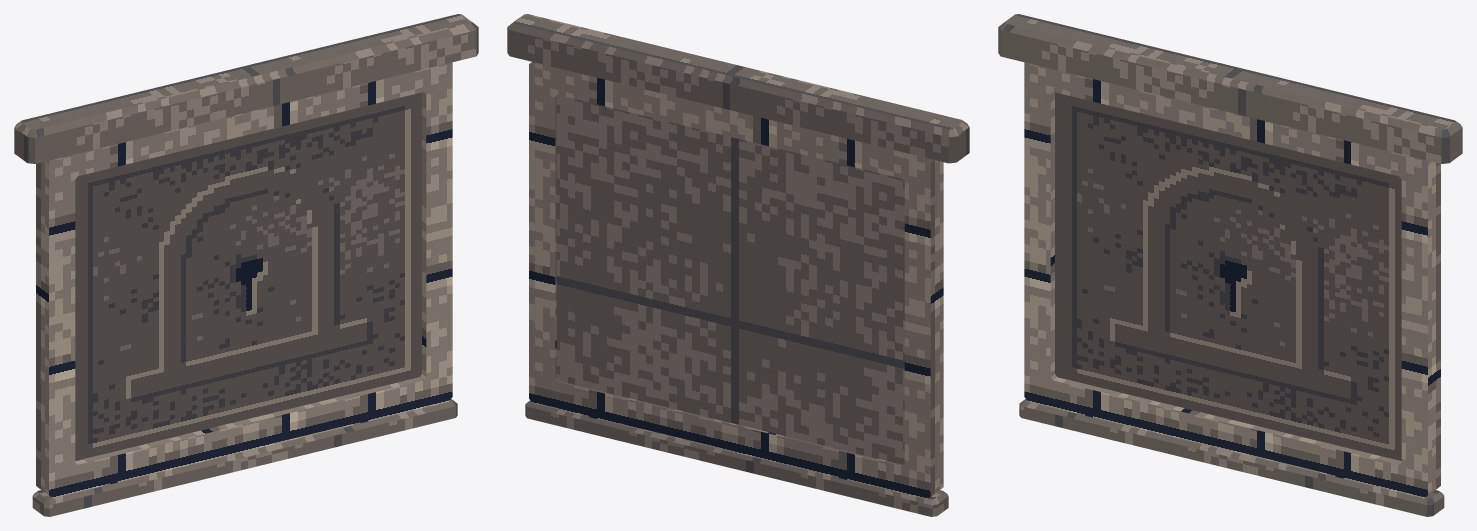
Rendered from tmpl.relief.glb.
The picture shows the model from 3 angles, left to right: view 1: azimuth 30°, elevation 25°; view 2: azimuth 150°, elevation 25°; view 3: azimuth 330°, elevation 25°; orthographic projection.
Parts seen in each view (by area): view 1: kit_relief, kit_frame; view 2: kit_relief, kit_frame; view 3: kit_relief, kit_frame.
Boxes of the visible parts, x1,y1,x2,y2 form: kit_relief: [75, 92, 421, 460]; kit_frame: [14, 14, 478, 516]; kit_relief: [556, 95, 904, 464]; kit_frame: [507, 14, 969, 516]; kit_relief: [1055, 92, 1401, 460]; kit_frame: [998, 14, 1462, 516].
Bounding box in the file's own units: 3.6 × 2.98 × 0.26.
3 materials, 3 textured.
